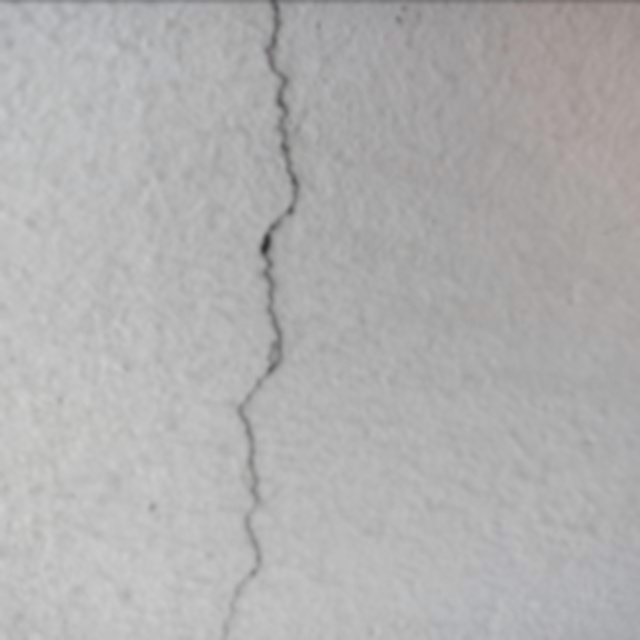SurfaceCrack: (178, 0, 328, 640)
